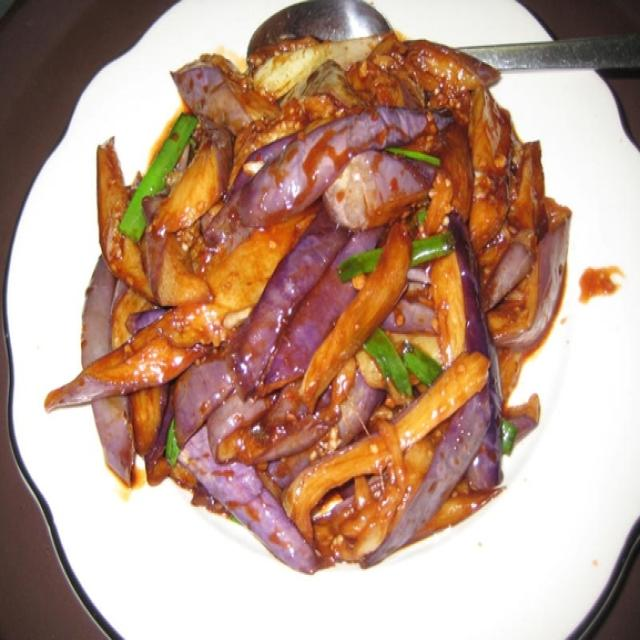鸡蛋料理: (30, 26, 603, 608)
